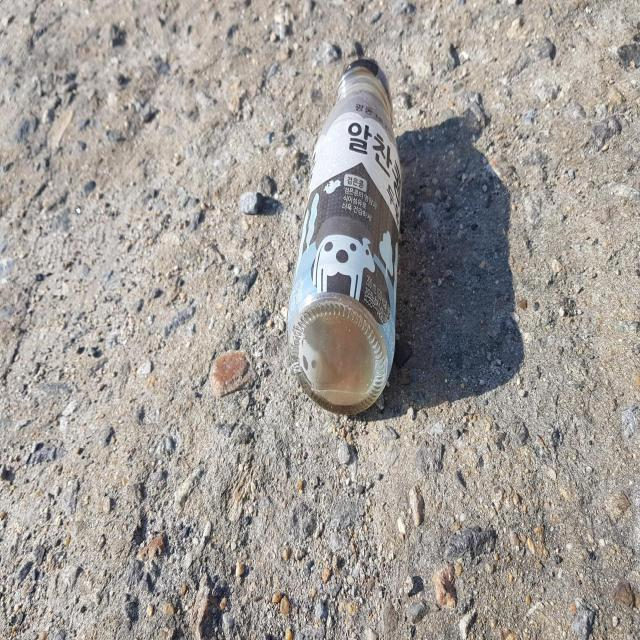glass: (289, 57, 402, 413)
